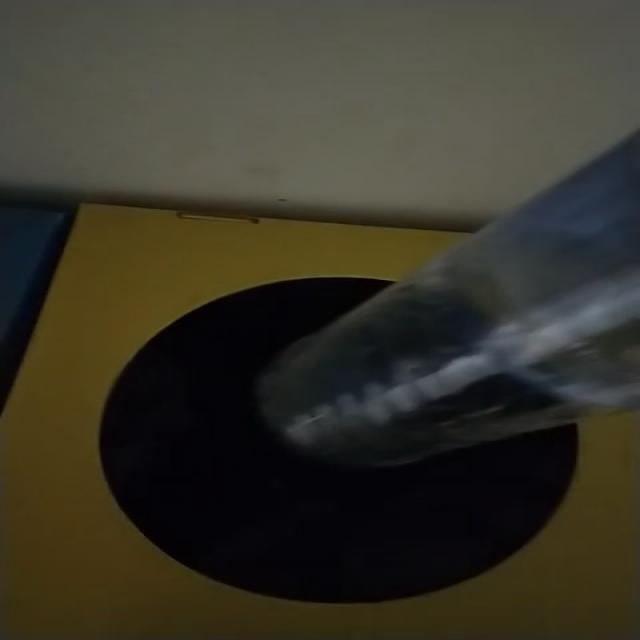plastic: (257, 133, 640, 467)
